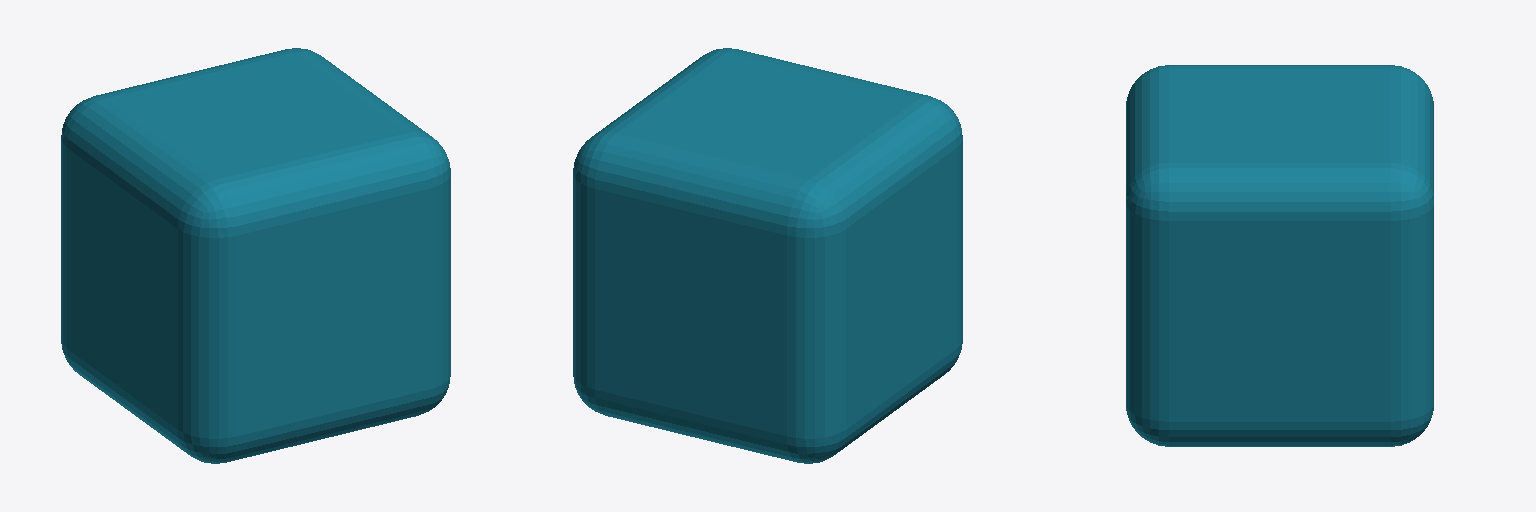
File: Eiswuerfel.obj
3 renders of one model, left to right at view 1: azimuth 30°, elevation 25°; view 2: azimuth 150°, elevation 25°; view 3: azimuth 270°, elevation 25°, orthographic.
Visible parts, largest first — view 1: Eiswuerfel_Cube; view 2: Eiswuerfel_Cube; view 3: Eiswuerfel_Cube.
Boxes of the visible parts, x1=… form: Eiswuerfel_Cube: x1=61, y1=48, x2=450, y2=463; Eiswuerfel_Cube: x1=573, y1=48, x2=962, y2=463; Eiswuerfel_Cube: x1=1126, y1=65, x2=1433, y2=446.
Size of the model in its own units: 1 by 1 by 1.